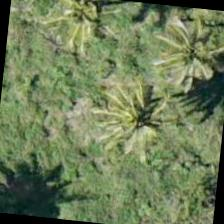Kelapa_Sawit: (84, 74, 184, 173), (141, 3, 223, 103), (34, 0, 132, 70), (33, 0, 129, 59)
